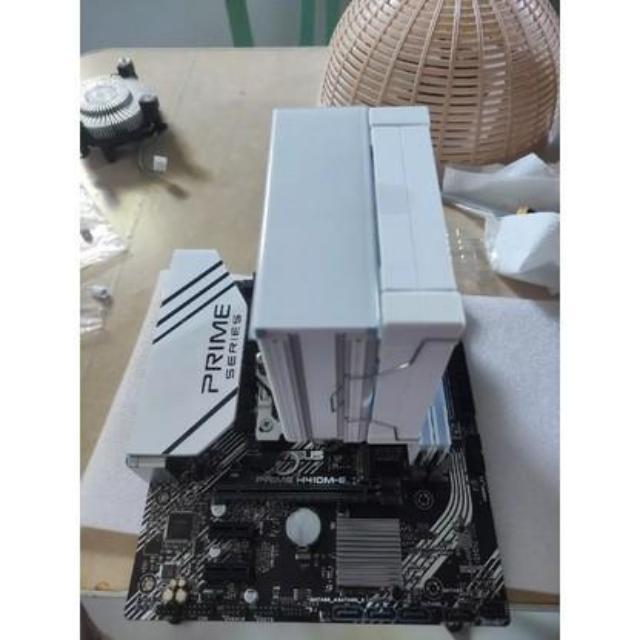CPU_Fan: (256, 108, 472, 450)
